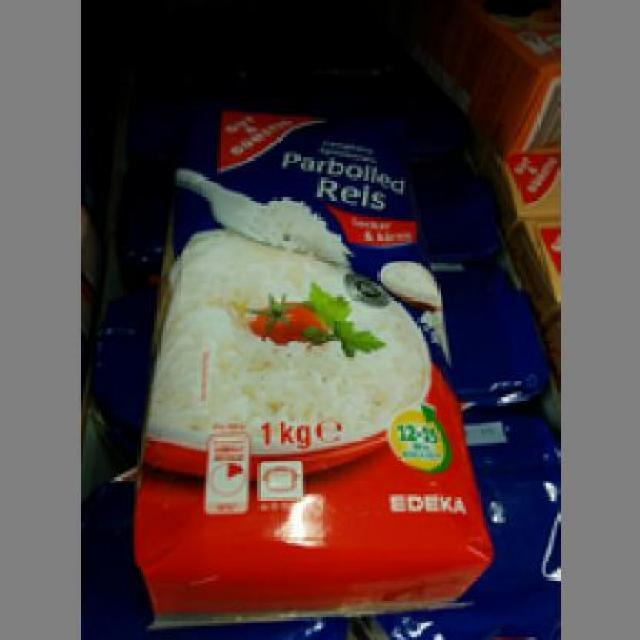Rice: (134, 91, 492, 628)
